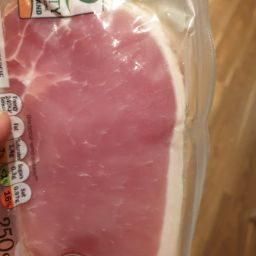Bacon: (3, 21, 221, 238), (13, 25, 208, 242), (112, 2, 228, 256), (2, 3, 220, 103)
